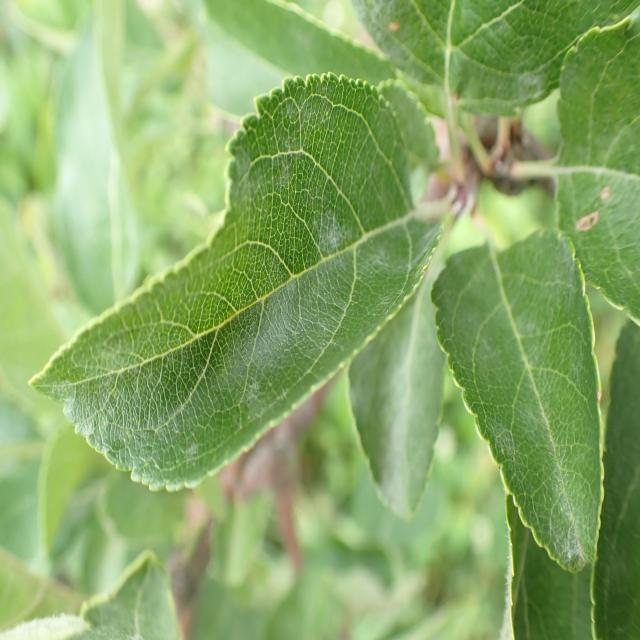Black Rot: (573, 173, 613, 243)
Powdery_mildew: (41, 67, 438, 507), (447, 215, 616, 592)
